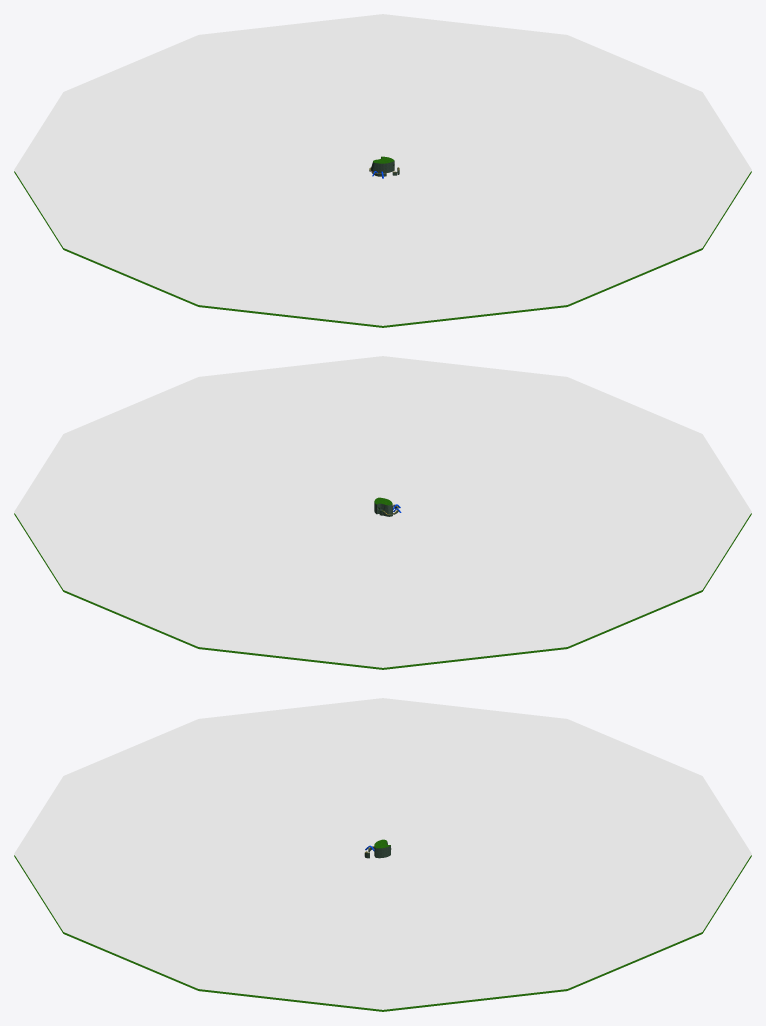
The picture shows the model from 3 angles, top to bottom: view 1: azimuth 30°, elevation 25°; view 2: azimuth 150°, elevation 25°; view 3: azimuth 270°, elevation 25°; orthographic projection.
Visible parts, largest first — view 1: course-SKP--fog.001, course-SKP--foggrass.001; view 2: course-SKP--fog.001, course-SKP--foggrass.001; view 3: course-SKP--fog.001, course-SKP--foggrass.001.
Boxes of the visible parts, left/top/right/bottom form: course-SKP--fog.001: left=14, top=14, right=751, bottom=325; course-SKP--foggrass.001: left=14, top=156, right=751, bottom=327; course-SKP--fog.001: left=14, top=356, right=751, bottom=667; course-SKP--foggrass.001: left=14, top=497, right=751, bottom=669; course-SKP--fog.001: left=14, top=698, right=751, bottom=1009; course-SKP--foggrass.001: left=14, top=839, right=751, bottom=1011.
Size of the model in its own units: 1746792 by 35370 by 1746792.
Materials: 13 (13 with a texture image).
